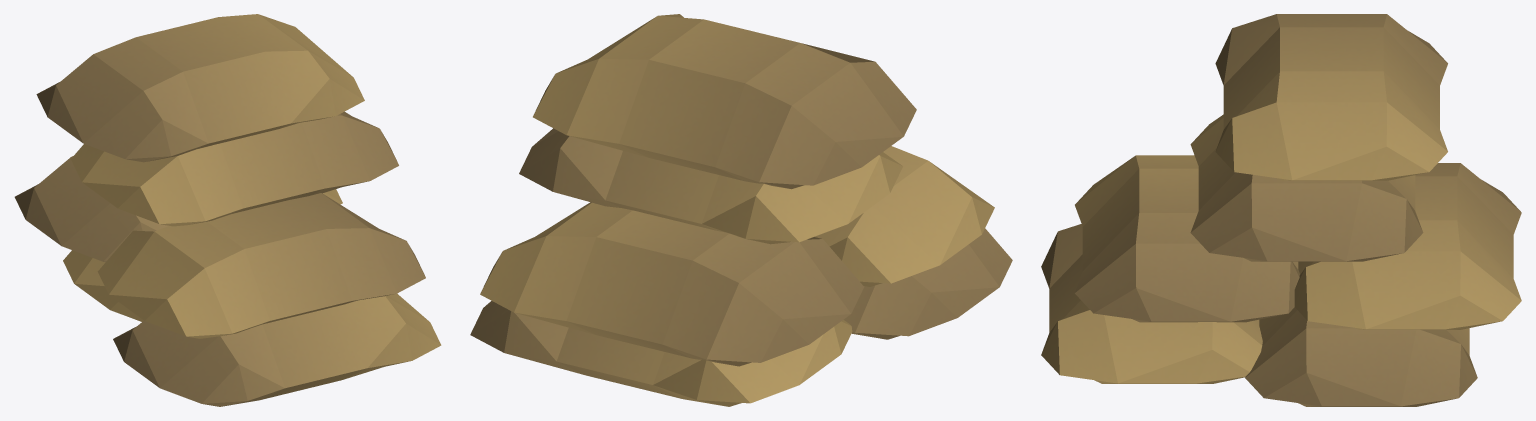
Rendered from Sack_1B_LOD1.fbx.
3 renders of one model, left to right at view 1: azimuth 30°, elevation 25°; view 2: azimuth 150°, elevation 25°; view 3: azimuth 270°, elevation 25°, orthographic. The views are drawn at different scales.
Parts seen in each view (by area): view 1: polySurface9666; view 2: polySurface9666; view 3: polySurface9666.
Boxes of the visible parts, bbox=[...] form: polySurface9666: bbox=[14, 14, 441, 406]; polySurface9666: bbox=[470, 14, 1012, 406]; polySurface9666: bbox=[1041, 14, 1521, 406].
Bounding box in the file's own units: 190 × 157 × 230.
